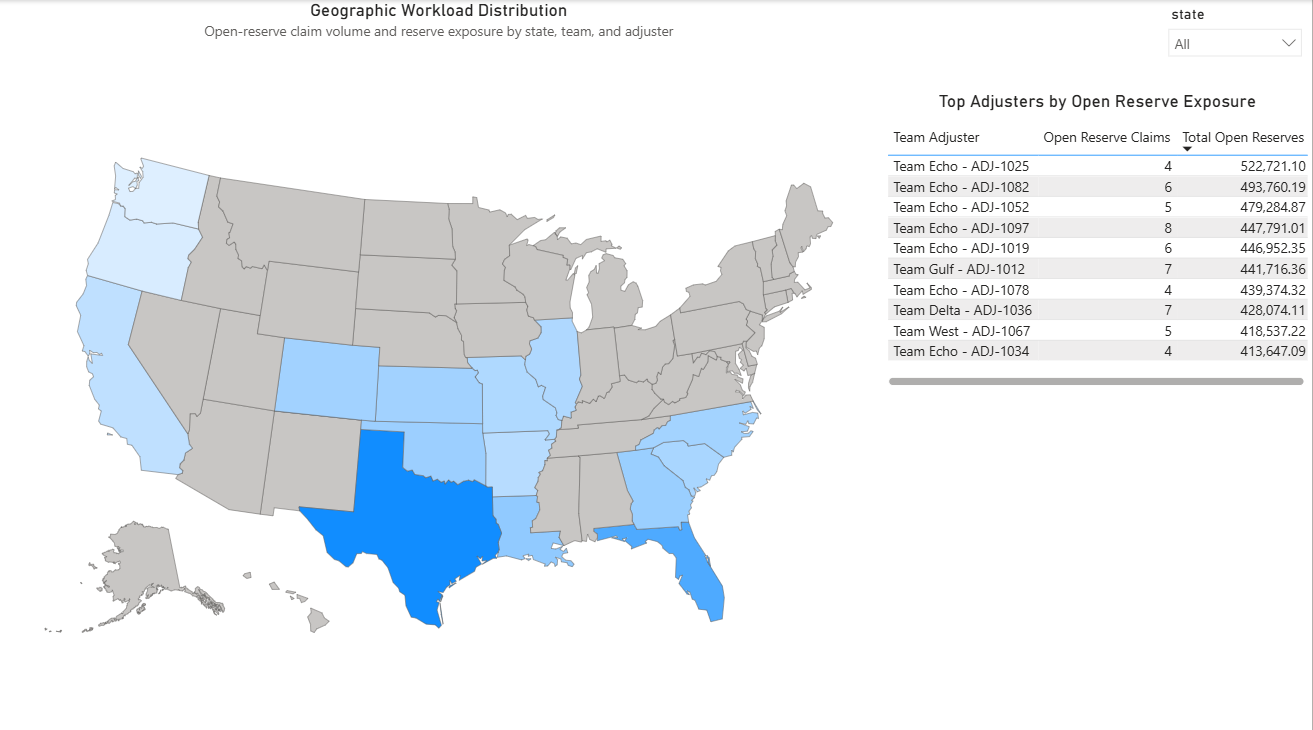

What the dashboard file says about the page in this screenshot:
{"tool":"powerbi","page":{"name":"Adjuster Exposure","canvas":[1280,720],"ordinal":3},"visuals":[{"type":"shapeMap","title":"Geographic Workload Distribution","fields":{"Value":["cat_claim_profile_final.Open Reserve Claims"],"Category":["cat_claim_profile_final.state"]},"box":[0,0,861.4,720.1],"z":0},{"type":"tableEx","title":"Top Adjusters by Open Reserve Exposure","fields":{"Values":["cat_claim_profile_final.Team Adjuster","cat_claim_profile_final.Open Reserve Claims","cat_claim_profile_final.Total Open Reserves"]},"box":[861.4,88.5,419,292.5],"z":1000},{"type":"slicer","fields":{"Values":["cat_claim_profile_final.state"]},"box":[1130.5,0,149.9,88.5],"z":2000}]}

Visuals, with their boxes in screenshot pixels (x1, y1, x2, y2), scaled from the page's 1280x720 canvas onto the 1313x730 screenshot:
"Geographic Workload Distribution" shapeMap: box=[0, 0, 884, 729]
"Top Adjusters by Open Reserve Exposure" tableEx: box=[884, 90, 1312, 386]
slicer - cat_claim_profile_final.state: box=[1160, 0, 1312, 90]
